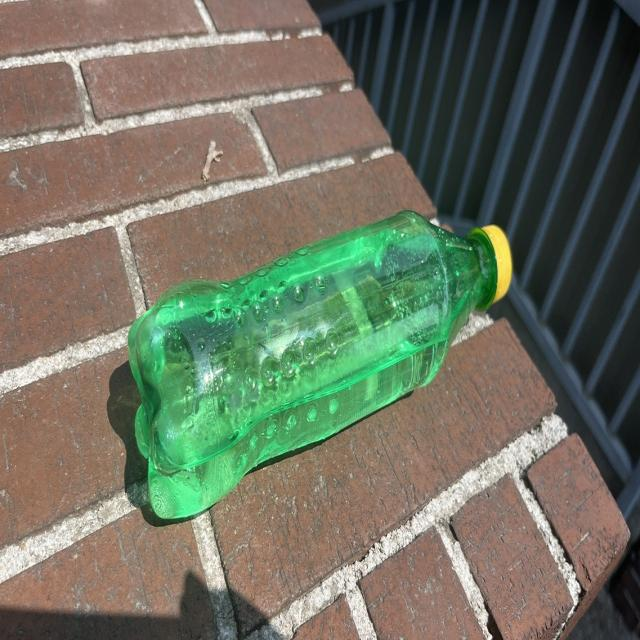medium: (128, 211, 511, 518)
